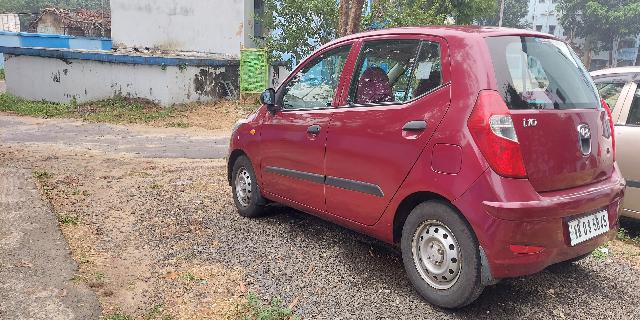Car: (229, 25, 626, 306)
